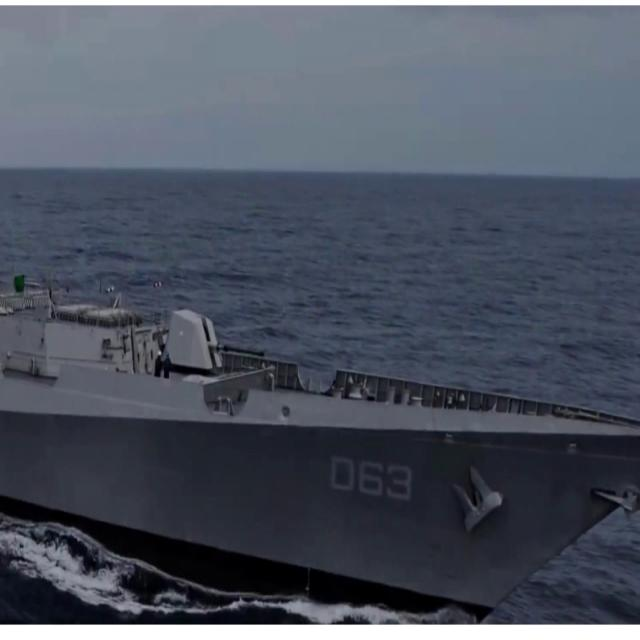OCR: (328, 451, 415, 507)
